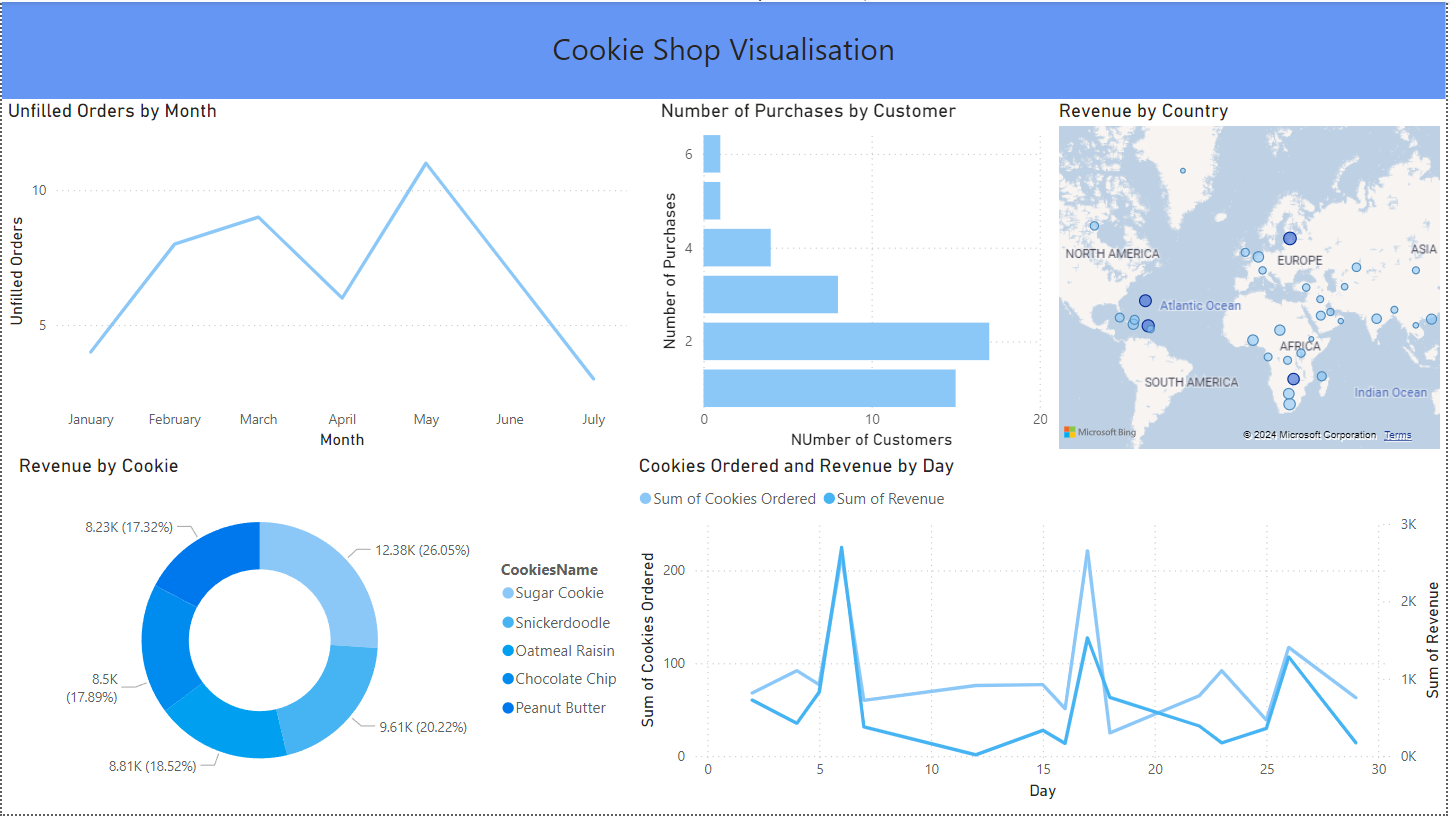

What the dashboard file says about the page in this screenshot:
{"tool":"powerbi","page":{"name":"Page 6","canvas":[1280,720],"ordinal":5},"visuals":[{"type":"lineChart","title":"Cookies Ordered and Revenue by Day","fields":{"Category":["Details_of_Last_Month5.Order Date.Variation.Date Hierarchy.Day"],"Y":["Sum(Details_of_Last_Month5.Cookies Ordered)"],"Y2":["Sum(Details_of_Last_Month5.Revenue)"]},"box":[559.3,400.7,720.7,311.2],"z":0},{"type":"map","title":"Revenue by Country","fields":{"Size":["Sum(Revenue_by_Customer4.SumOfRevenue)"],"Category":["Revenue_by_Customer4.Country"]},"box":[931.8,85.6,348.2,315.1],"z":1},{"type":"donutChart","title":"Revenue by Cookie","fields":{"Category":["Total_Sales_per_Product2.CookiesName"],"Y":["Sum(Total_Sales_per_Product2.SumOfRevenue)"]},"box":[9.7,400.7,549.5,311.2],"z":2},{"type":"lineChart","fields":{"Y":["CountNonNull(Unfilled_Orders3.Order Filled)"],"Category":["Unfilled_Orders3.Order Date.Variation.Date Hierarchy.Month","Unfilled_Orders3.Order Date.Variation.Date Hierarchy.Day"]},"box":[0,85.6,559.3,315.1],"z":3},{"type":"barChart","title":"Number of Purchases by Customer","fields":{"Category":["Number_of_Orders_per_Customer1.CountOfCustomer ID"],"Y":["CountNonNull(Number_of_Orders_per_Customer1.CountOfCustomer ID)"]},"box":[578.7,85.6,353.1,315.1],"z":4},{"type":"textbox","box":[0,0,1280,85.6],"z":5}]}

Visuals, with their boxes in screenshot pixels (x1, y1, x2, y2), scaled from the page's 1280x720 canvas onto the 1450x820 screenshot:
"Cookies Ordered and Revenue by Day" lineChart: left=634, top=456, right=1449, bottom=811
"Revenue by Country" map: left=1056, top=97, right=1449, bottom=456
"Revenue by Cookie" donutChart: left=11, top=456, right=633, bottom=811
lineChart - CountNonNull(Unfilled_Orders3.Order Filled) x Unfilled_Orders3.Order Date.Variation.Date Hierarchy.Month: left=0, top=97, right=634, bottom=456
"Number of Purchases by Customer" barChart: left=656, top=97, right=1056, bottom=456
textbox: left=0, top=0, right=1449, bottom=97
